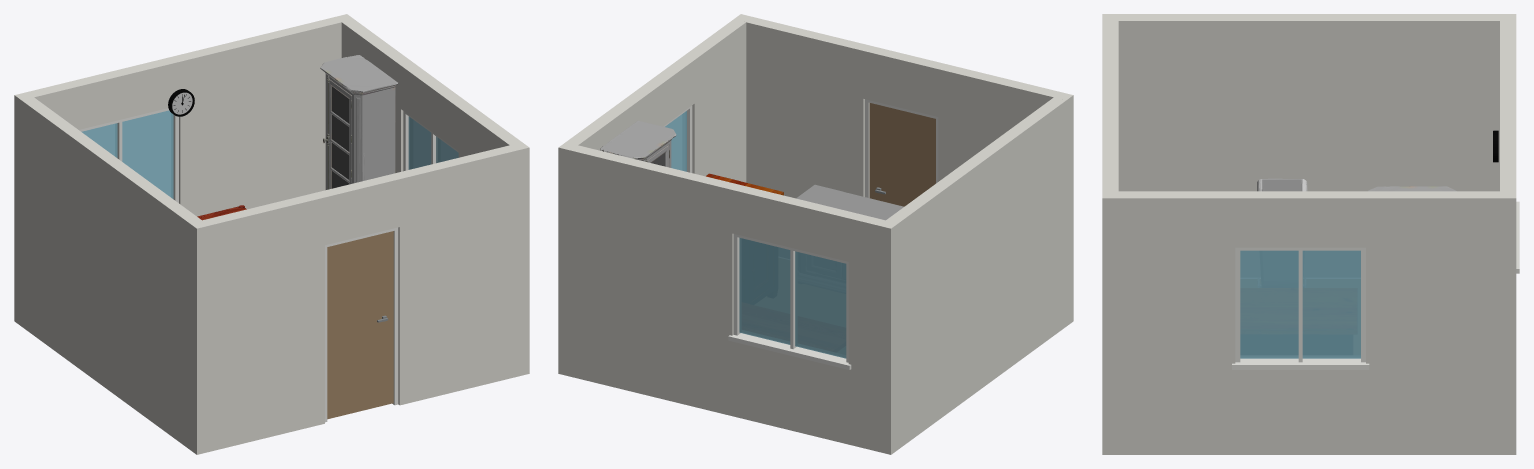
The model's file is holodeck.glb.
The picture shows the model from 3 angles, left to right: view 1: azimuth 30°, elevation 25°; view 2: azimuth 150°, elevation 25°; view 3: azimuth 270°, elevation 25°; orthographic projection. The views are drawn at different scales.
Visible parts, largest first — view 1: wall|scenesmith_058__R00|0, wall|scenesmith_058__R00|2, wall|scenesmith_058__R00|1, wall|scenesmith_058__R00|0 Door 0 | wood leaf, scenesmith_058__R00_6, wall|scenesmith_058__R00|3, wall|scenesmith_058__R00|1 Window 0 | glazing, wall|scenesmith_058__R00|0 Door 0 | jamb, wall|scenesmith_058__R00|3 Window 0 | glazing, wall|scenesmith_058__R00|1 Window 0 | jamb, wall|scenesmith_058__R00|3 Window 0 | jamb, scenesmith_058__R00_7; view 2: wall|scenesmith_058__R00|1, wall|scenesmith_058__R00|2, wall|scenesmith_058__R00|0, wall|scenesmith_058__R00|3, wall|scenesmith_058__R00|1 Window 0 | glazing, wall|scenesmith_058__R00|0 Door 0 | wood leaf, wall|scenesmith_058__R00|1 Window 0 | jamb, scenesmith_058__R00_6, scenesmith_058__R00_0, wall|scenesmith_058__R00|0 Door 0 | jamb, wall|scenesmith_058__R00|3 Window 0 | glazing; view 3: wall|scenesmith_058__R00|3, wall|scenesmith_058__R00|2, wall|scenesmith_058__R00|3 Window 0 | glazing, wall|scenesmith_058__R00|3 Window 0 | jamb, wall|scenesmith_058__R00|0, wall|scenesmith_058__R00|1, scenesmith_058__R00_2, scenesmith_058__R00_6.
Boxes of the visible parts, left/top/right/bottom form: wall|scenesmith_058__R00|0: left=190, top=142, right=529, bottom=454; wall|scenesmith_058__R00|2: left=14, top=92, right=201, bottom=454; wall|scenesmith_058__R00|1: left=14, top=17, right=341, bottom=326; wall|scenesmith_058__R00|0 Door 0 | wood leaf: left=327, top=231, right=393, bottom=419; scenesmith_058__R00_6: left=320, top=55, right=397, bottom=189; wall|scenesmith_058__R00|3: left=335, top=14, right=521, bottom=172; wall|scenesmith_058__R00|1 Window 0 | glazing: left=81, top=110, right=173, bottom=199; wall|scenesmith_058__R00|0 Door 0 | jamb: left=325, top=227, right=398, bottom=422; wall|scenesmith_058__R00|3 Window 0 | glazing: left=408, top=116, right=458, bottom=169; wall|scenesmith_058__R00|1 Window 0 | jamb: left=79, top=108, right=178, bottom=202; wall|scenesmith_058__R00|3 Window 0 | jamb: left=403, top=111, right=458, bottom=171; scenesmith_058__R00_7: left=168, top=89, right=194, bottom=116; wall|scenesmith_058__R00|1: left=571, top=145, right=898, bottom=454; wall|scenesmith_058__R00|2: left=878, top=95, right=1073, bottom=454; wall|scenesmith_058__R00|0: left=734, top=14, right=1073, bottom=198; wall|scenesmith_058__R00|3: left=558, top=19, right=746, bottom=376; wall|scenesmith_058__R00|1 Window 0 | glazing: left=739, top=237, right=846, bottom=358; wall|scenesmith_058__R00|0 Door 0 | wood leaf: left=869, top=103, right=935, bottom=206; wall|scenesmith_058__R00|1 Window 0 | jamb: left=728, top=234, right=851, bottom=369; scenesmith_058__R00_6: left=600, top=120, right=676, bottom=167; scenesmith_058__R00_0: left=796, top=184, right=903, bottom=220; wall|scenesmith_058__R00|0 Door 0 | jamb: left=865, top=99, right=938, bottom=197; wall|scenesmith_058__R00|3 Window 0 | glazing: left=665, top=111, right=686, bottom=171; wall|scenesmith_058__R00|3: left=1102, top=191, right=1516, bottom=454; wall|scenesmith_058__R00|2: left=1118, top=14, right=1516, bottom=191; wall|scenesmith_058__R00|3 Window 0 | glazing: left=1240, top=250, right=1360, bottom=358; wall|scenesmith_058__R00|3 Window 0 | jamb: left=1232, top=247, right=1369, bottom=369; wall|scenesmith_058__R00|0: left=1102, top=14, right=1118, bottom=198; wall|scenesmith_058__R00|1: left=1500, top=21, right=1516, bottom=191; scenesmith_058__R00_2: left=1257, top=178, right=1307, bottom=191; scenesmith_058__R00_6: left=1368, top=186, right=1456, bottom=191.
Size of the model in its own units: 4.03 by 2.61 by 3.83.
Materials: 14 (8 with a texture image).
